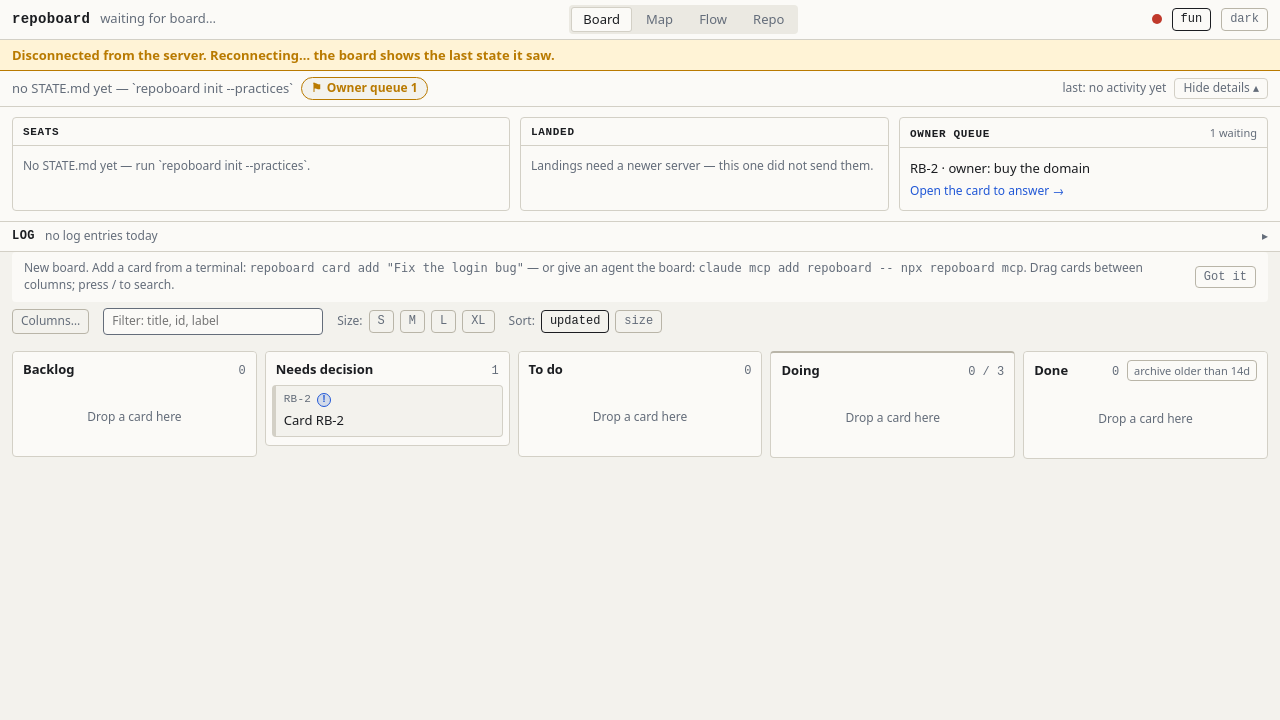
Test: Drawer: Owner task section (RCB-52) › heading reads Owner task, no option buttons, Done enabled with empty words
What coordinates should you click on to do the following:
click the button titled "Open RB-2"
I would click on:
 (297, 400)
Its box is [284,392,311,408].
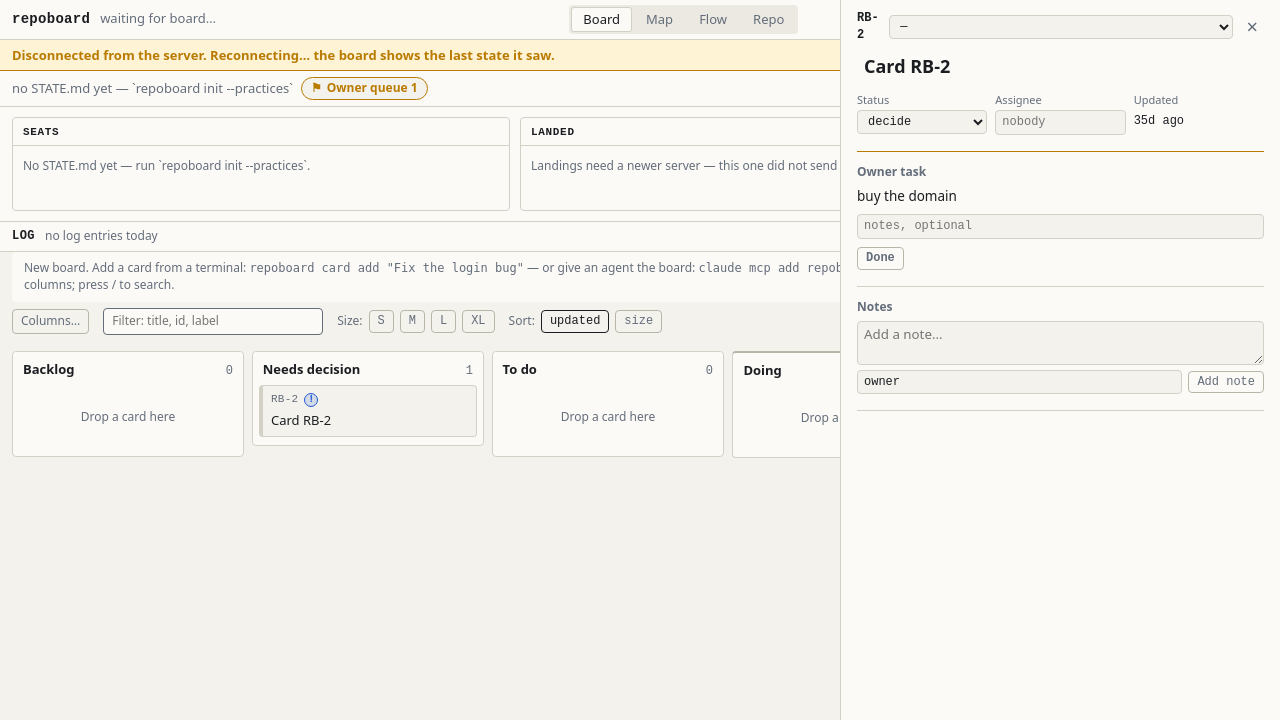
Now the heading "Owner task" is shown, box [857,163,926,180]
Now the button "Done" is enabled
What coordinates should you click on to do the following:
click the button "Done"
I would click on:
 (880, 258)
Its box is [857,247,904,270].
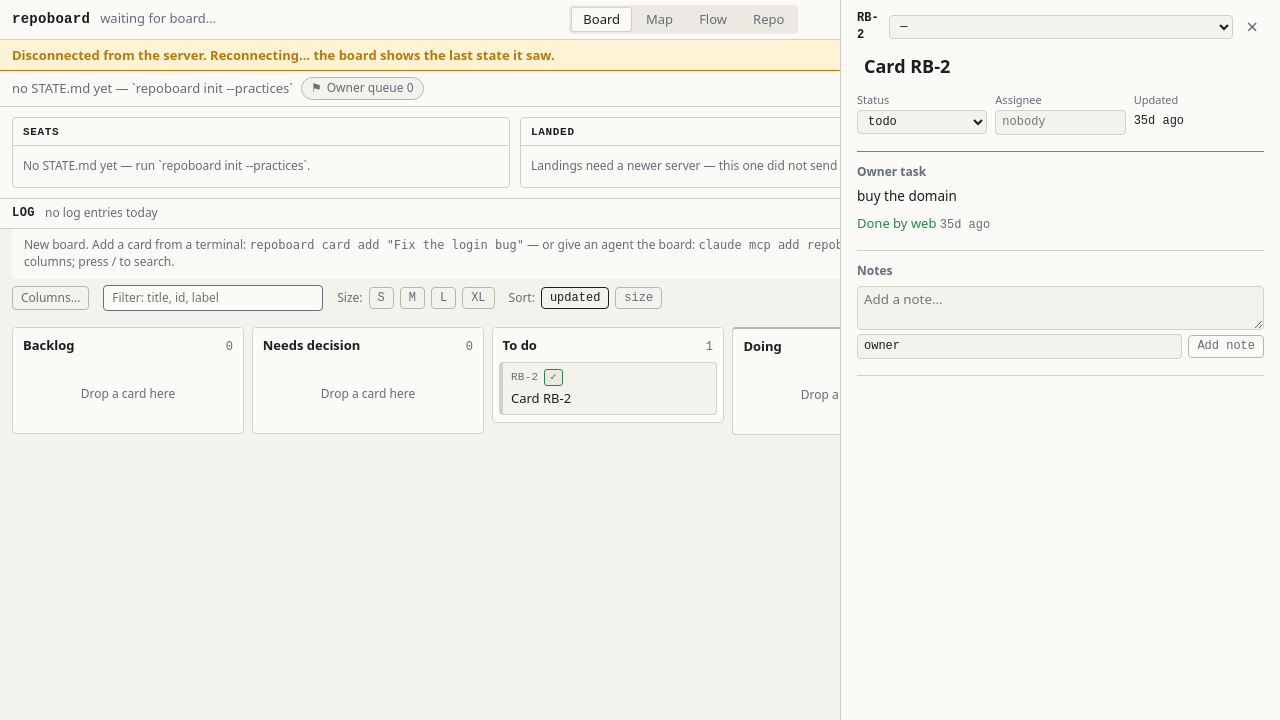
Now the element with test id "decision-answer" shows "Done", box [857,214,890,232]
